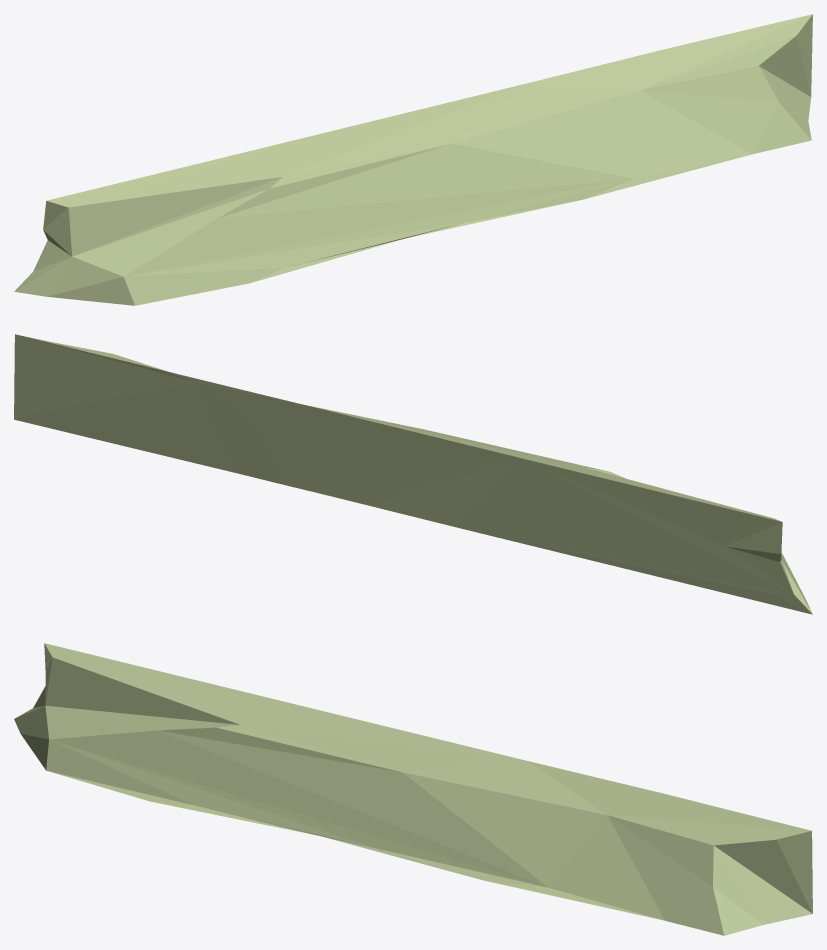
File: hill_9.gltf
3 views of the same model, one above another, from view 1: azimuth 30°, elevation 25°; view 2: azimuth 150°, elevation 25°; view 3: azimuth 330°, elevation 25° (orthographic).
Visible parts, largest first — view 1: hill; view 2: hill; view 3: hill.
Part boxes in pixels (<box>): hill: <box>14,14,812,305</box>; hill: <box>14,334,812,614</box>; hill: <box>14,643,812,935</box>.
Size of the model in its own units: 10.22 by 1.04 by 1.14.
